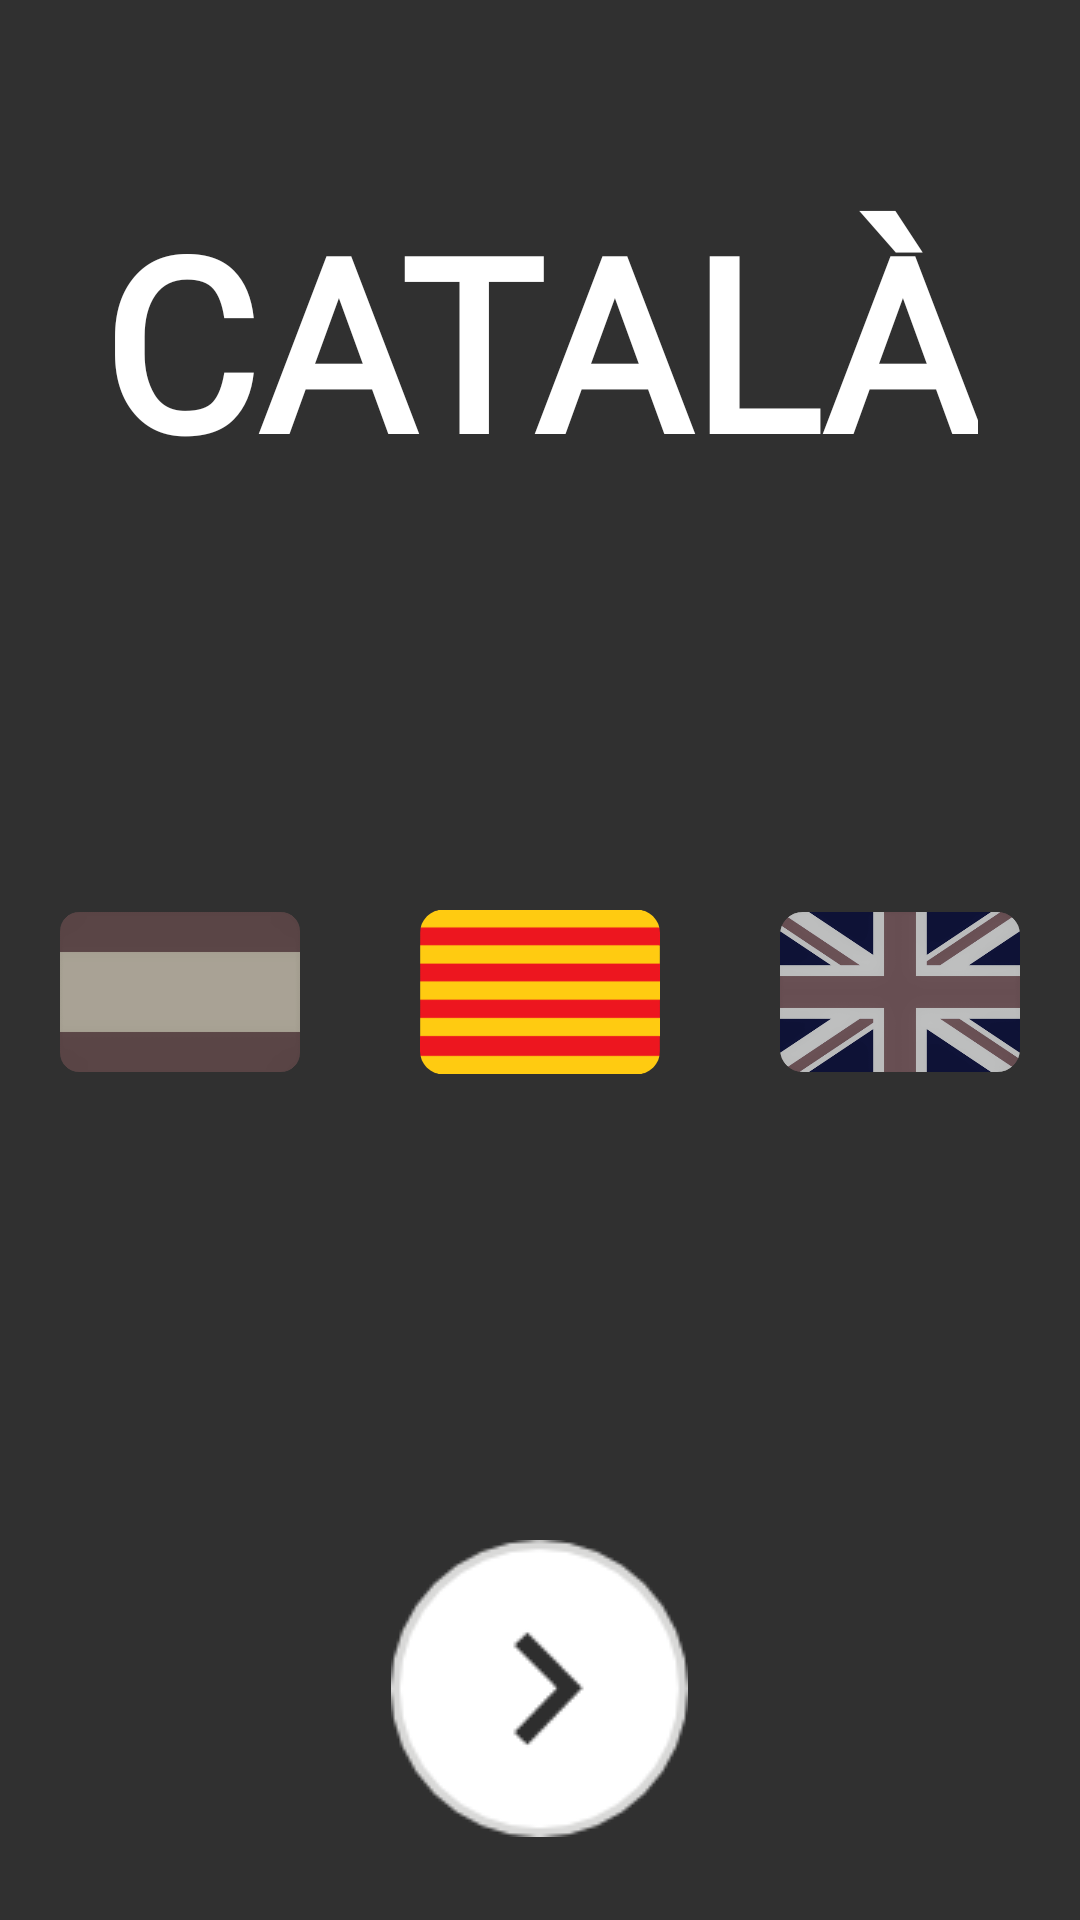

Icon click points for this 1080×1920 phone screenshot, format (x=x, y=y):
cat: (x=540, y=992)
eng: (x=900, y=992)
nextbut: (x=539, y=1688)
spain: (x=180, y=992)
